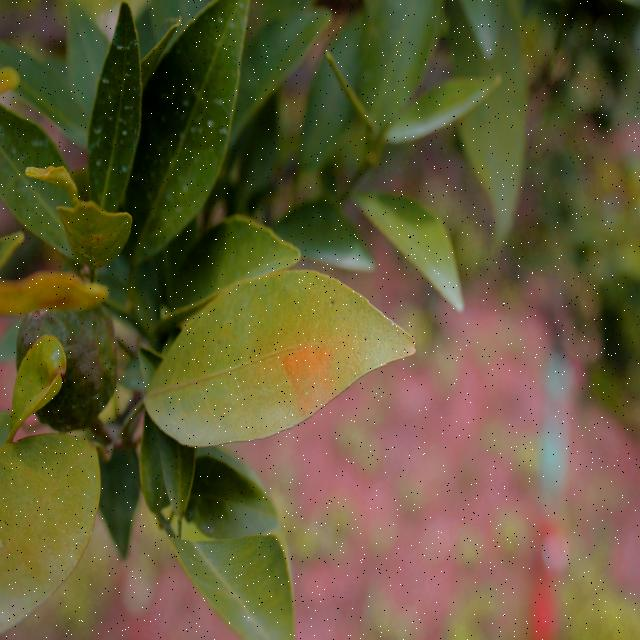blackspot: (169, 266, 417, 456)
